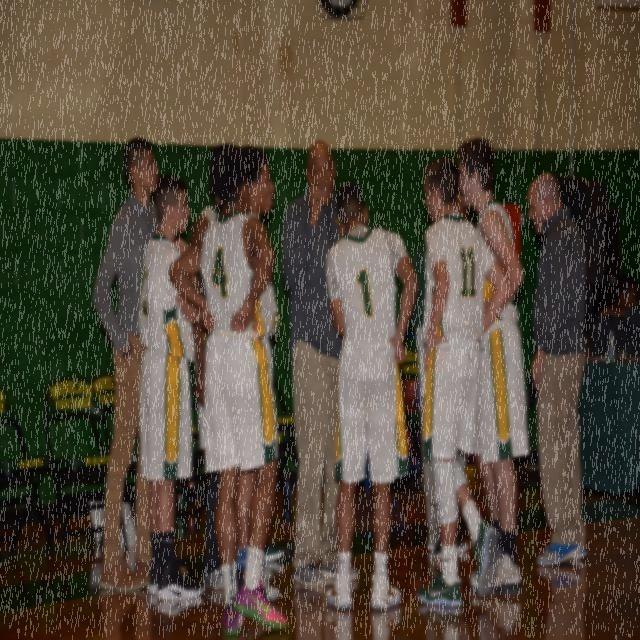pessoa: (167, 147, 293, 638), (413, 149, 514, 616), (90, 135, 189, 592), (320, 178, 422, 614), (280, 140, 360, 588), (456, 137, 532, 597), (136, 171, 208, 607), (524, 167, 591, 572), (188, 142, 243, 551), (235, 144, 281, 604), (414, 188, 471, 554), (588, 277, 638, 358), (599, 304, 640, 322)
